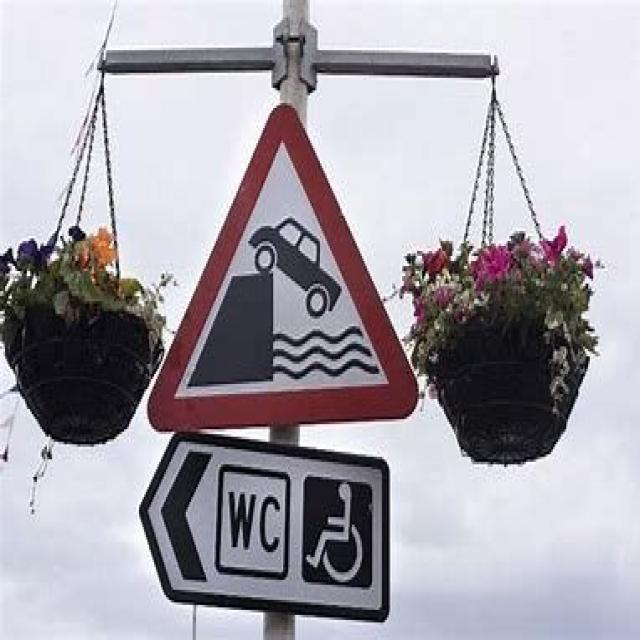quay side or river bank: (157, 106, 417, 416)
